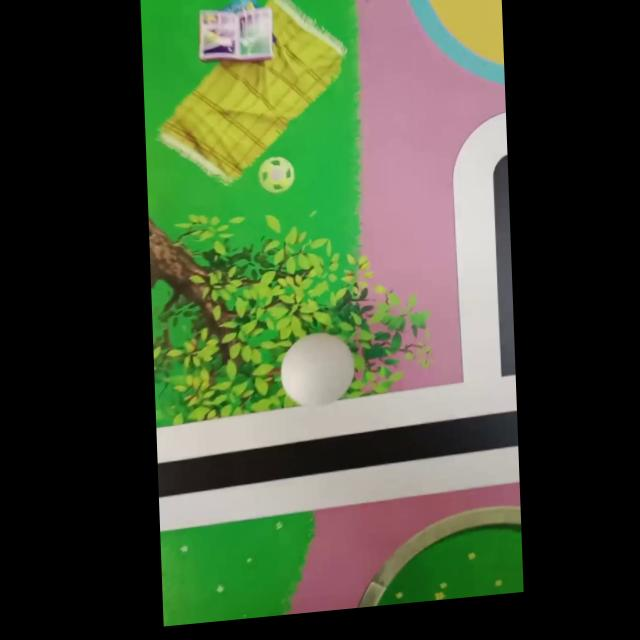white ball: (278, 328, 356, 410)
